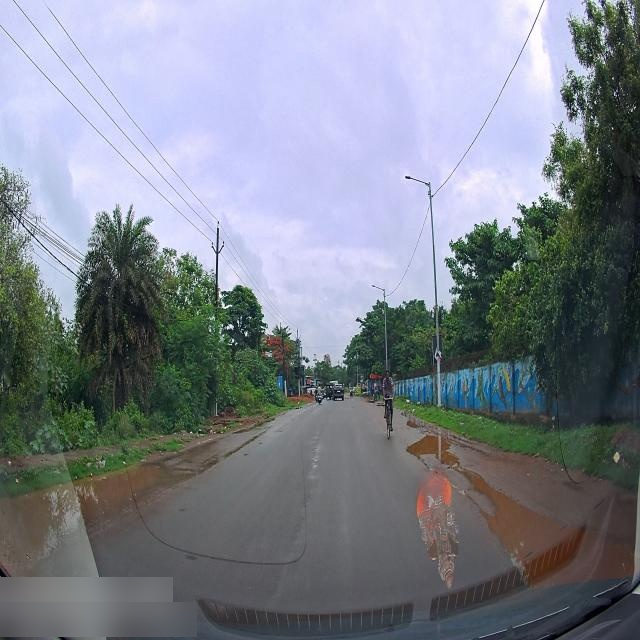pothole: (24, 459, 170, 552), (494, 512, 572, 555), (465, 462, 506, 503), (407, 433, 451, 462), (406, 415, 423, 428)
